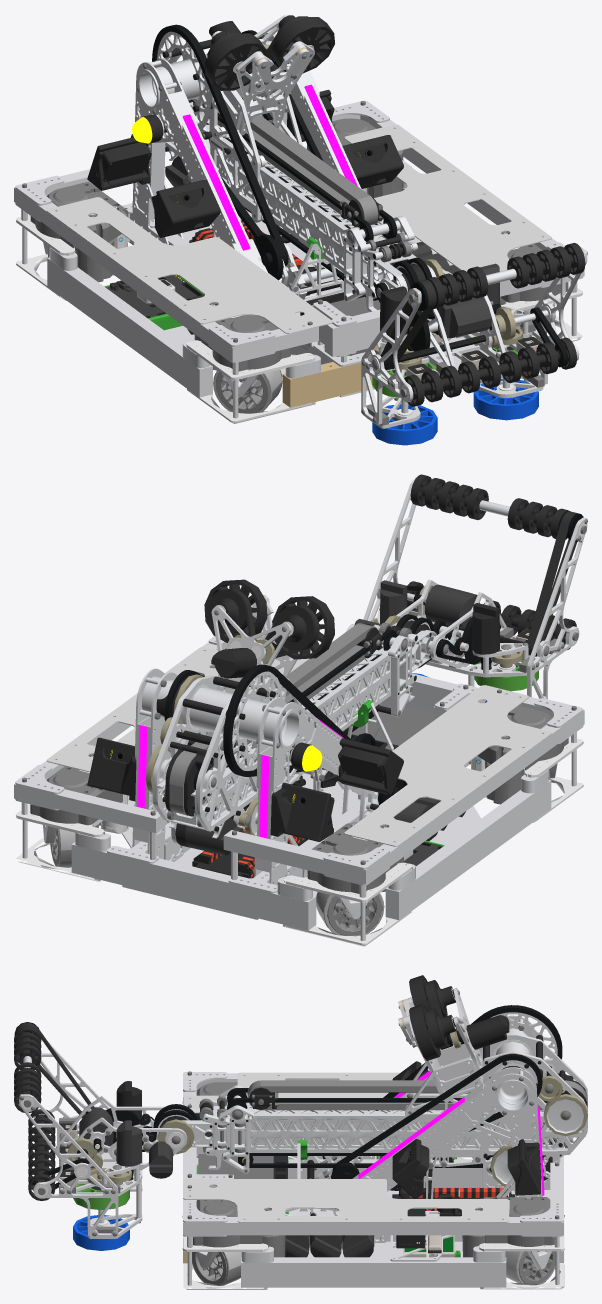
The model's file is Simplified-2910.fbx.
3 views of the same model, one above another, from view 1: azimuth 30°, elevation 25°; view 2: azimuth 150°, elevation 25°; view 3: azimuth 270°, elevation 25° (orthographic). The views are drawn at different scales.
Visible parts, largest first — view 1: Drivebase Parts, Cube, Arm 1st Stage Parts, End Effector Parts, Chain Pink Arm Cable Chain.001, #35 Chain, Arm 2nd Stage Parts, WCP-1362 (4in OD 1in WD 45A Flex Wheel).001, WCP-1362 (4in OD 1in WD 45A Flex Wheel), rough swerve v2.035, Arm 3rd Stage Parts, WCP-0940 (Kraken X60).005 (+25 smaller); view 2: Drivebase Parts, Cube, Arm 1st Stage Parts, End Effector Parts, Chain Pink Arm Cable Chain.001, Cube.001, #35 Chain, rough swerve v2.035, rough swerve v2.005, 105T 5M 15mm Wide Belt, am-0844 (Battery), Arm 2nd Stage Parts (+24 smaller); view 3: Drivebase Parts, Arm 1st Stage Parts, Cube, End Effector Parts, Chain Pink Arm Cable Chain.001, Arm 2nd Stage Parts, Arm 3rd Stage Parts, #25 Chain, rough swerve v2.005, Gear, 20DP, 62T, .5Hex, Pocketed, WCP-0141, Modified-1, am-0844 (Battery), rough swerve v2.027 (+35 smaller).
Part boxes in pixels (box(x1,y1,x2,y2)): Drivebase Parts: box(15, 30, 583, 407); Cube: box(14, 114, 584, 397); Arm 1st Stage Parts: box(157, 14, 414, 301); End Effector Parts: box(361, 247, 587, 428); Chain Pink Arm Cable Chain.001: box(193, 102, 378, 227); #35 Chain: box(152, 24, 288, 265); Arm 2nd Stage Parts: box(191, 102, 417, 311); WCP-1362 (4in OD 1in WD 45A Flex Wheel).001: box(204, 33, 266, 90); WCP-1362 (4in OD 1in WD 45A Flex Wheel): box(272, 17, 334, 73); rough swerve v2.035: box(30, 181, 128, 248); Arm 3rd Stage Parts: box(209, 123, 436, 292); WCP-0940 (Kraken X60).005: box(438, 297, 502, 338); Drivebase Parts: box(15, 630, 583, 893); Cube: box(14, 642, 584, 930); Arm 1st Stage Parts: box(152, 590, 414, 847); End Effector Parts: box(363, 478, 587, 699); Chain Pink Arm Cable Chain.001: box(169, 623, 376, 815); Cube.001: box(121, 764, 480, 919); #35 Chain: box(223, 664, 351, 776); rough swerve v2.035: box(307, 822, 397, 893); rough swerve v2.005: box(30, 754, 122, 825); 105T 5M 15mm Wide Belt: box(527, 511, 578, 656); am-0844 (Battery): box(342, 700, 433, 749); Arm 2nd Stage Parts: box(173, 624, 417, 824); Drivebase Parts: box(183, 1015, 563, 1263); Arm 1st Stage Parts: box(218, 980, 587, 1184); Cube: box(183, 1073, 563, 1287); End Effector Parts: box(16, 1022, 187, 1238); Chain Pink Arm Cable Chain.001: box(247, 1080, 587, 1110); Arm 2nd Stage Parts: box(200, 1098, 573, 1170); Arm 3rd Stage Parts: box(156, 1109, 549, 1147); #25 Chain: box(332, 1054, 542, 1169); rough swerve v2.005: box(475, 1197, 554, 1246); Gear, 20DP, 62T, .5Hex, Pocketed, WCP-0141, Modified-1: box(543, 1094, 587, 1136); am-0844 (Battery): box(198, 1154, 287, 1178); rough swerve v2.027: box(193, 1200, 272, 1247).
Size of the model in its own units: 66.38 by 47.64 by 107.
